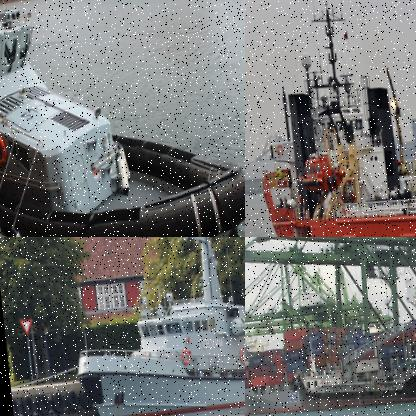Merchant Ship: (245, 0, 415, 236), (245, 237, 415, 415), (287, 284, 415, 415)
Patrol Boat: (0, 0, 244, 236), (48, 237, 244, 415)
